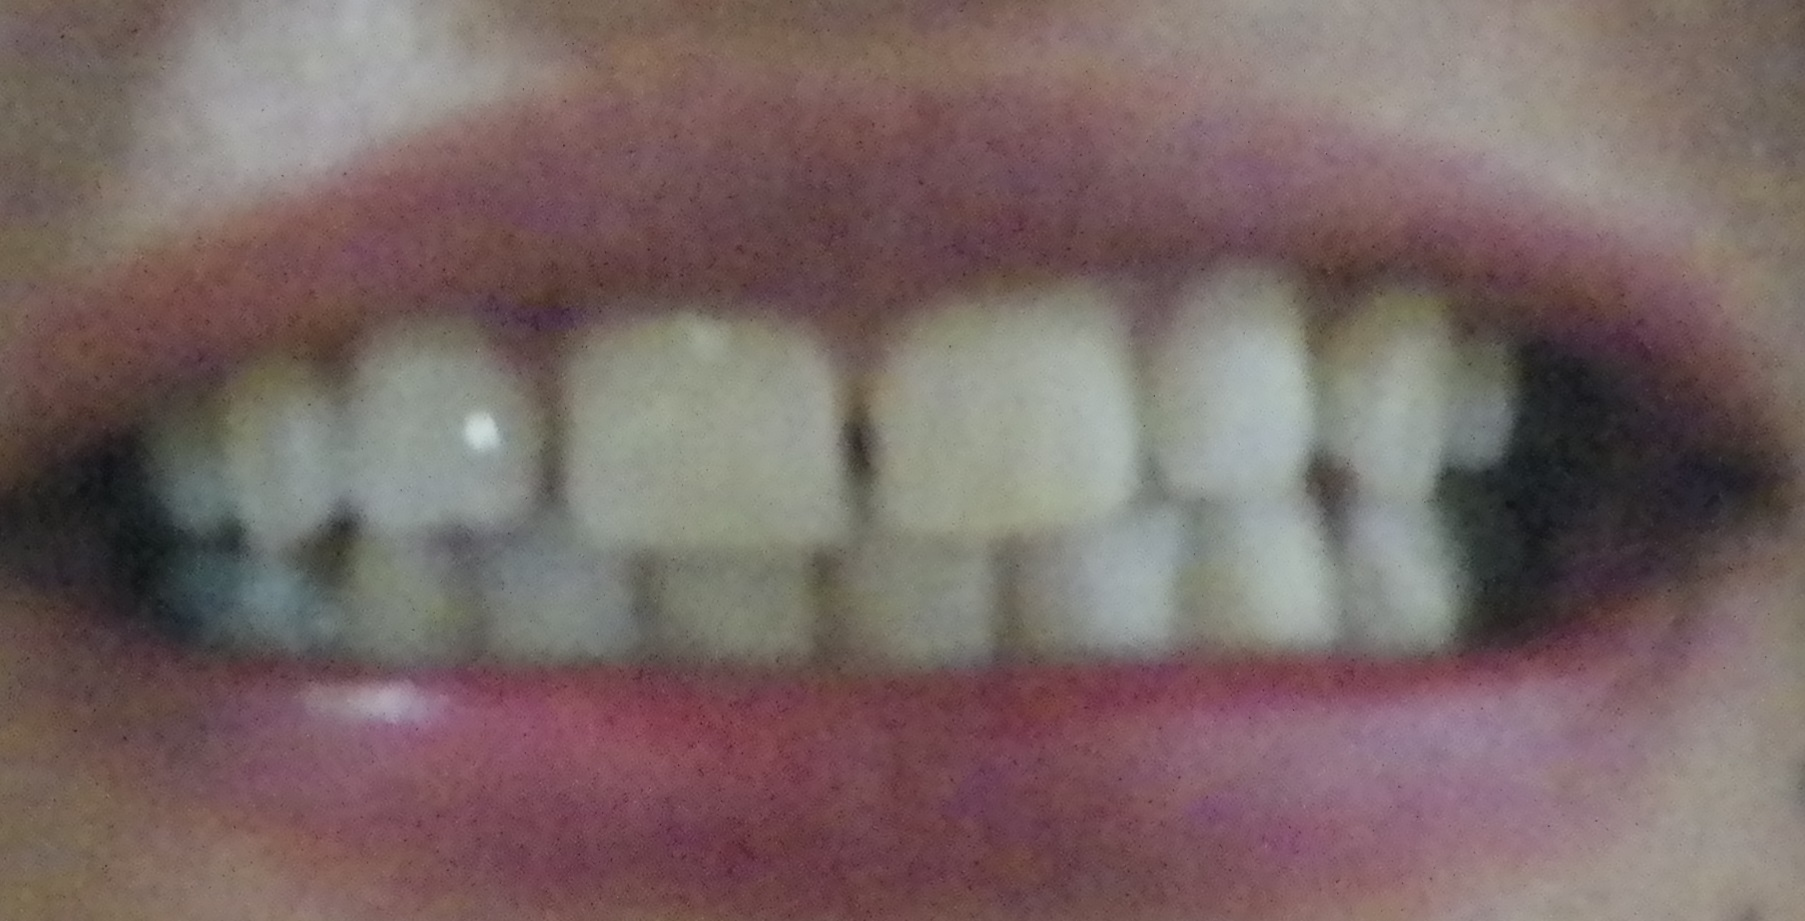boca: (166, 293, 1572, 650)
